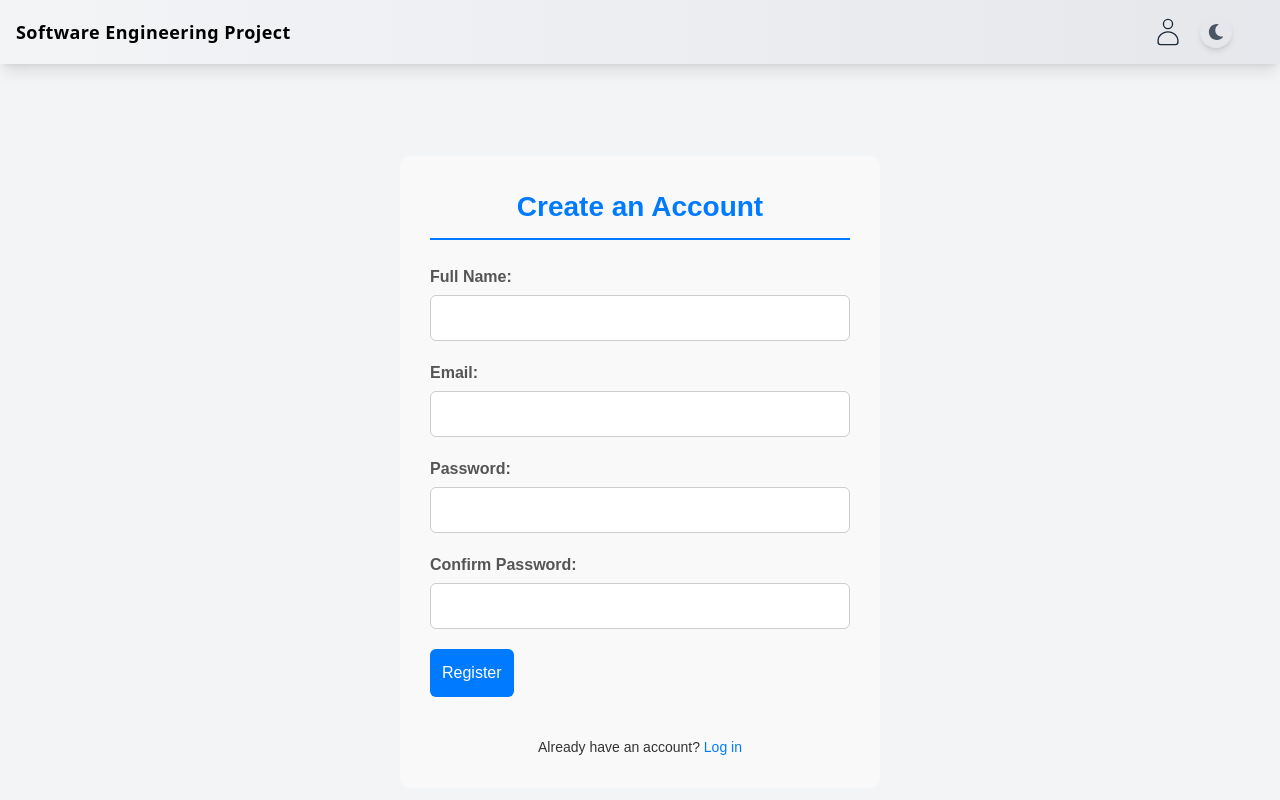
Test: Authentication Flow › User Registration › should show validation errors when passwords do not match
In the field with test id "name-input": (640, 318) [430,295,850,341], type "Test User"
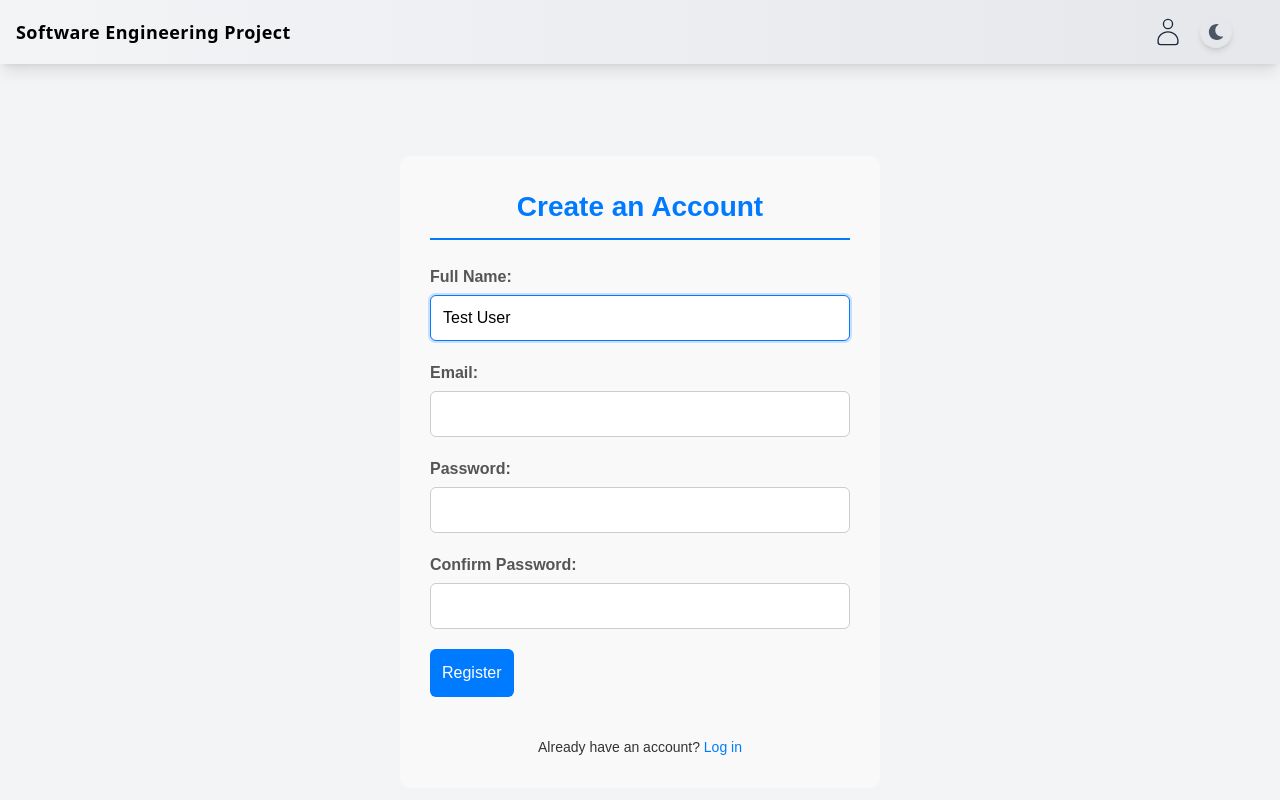
In the field with test id "email-input": (640, 414) [430,391,850,437], type "test@example.com"
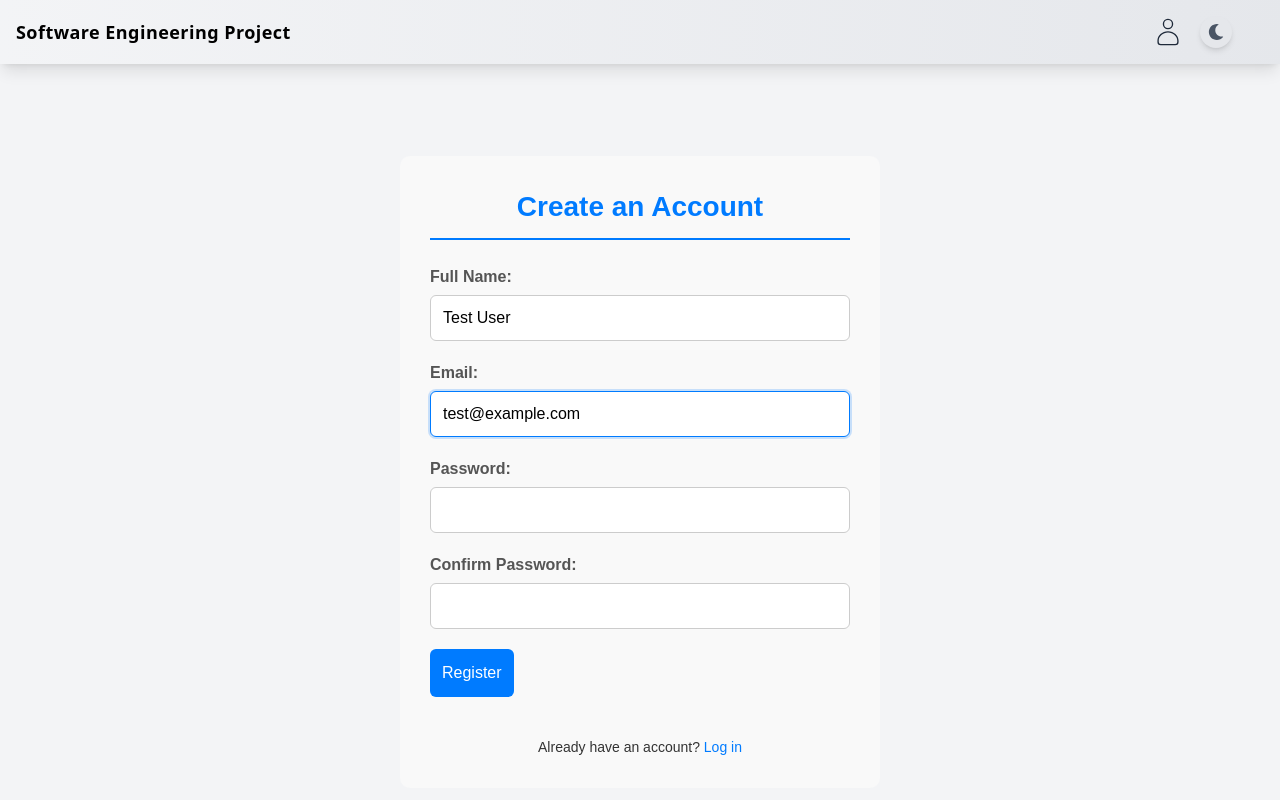
In the password field with test id "password-input": (640, 510) [430,487,850,533], type "Password123!"
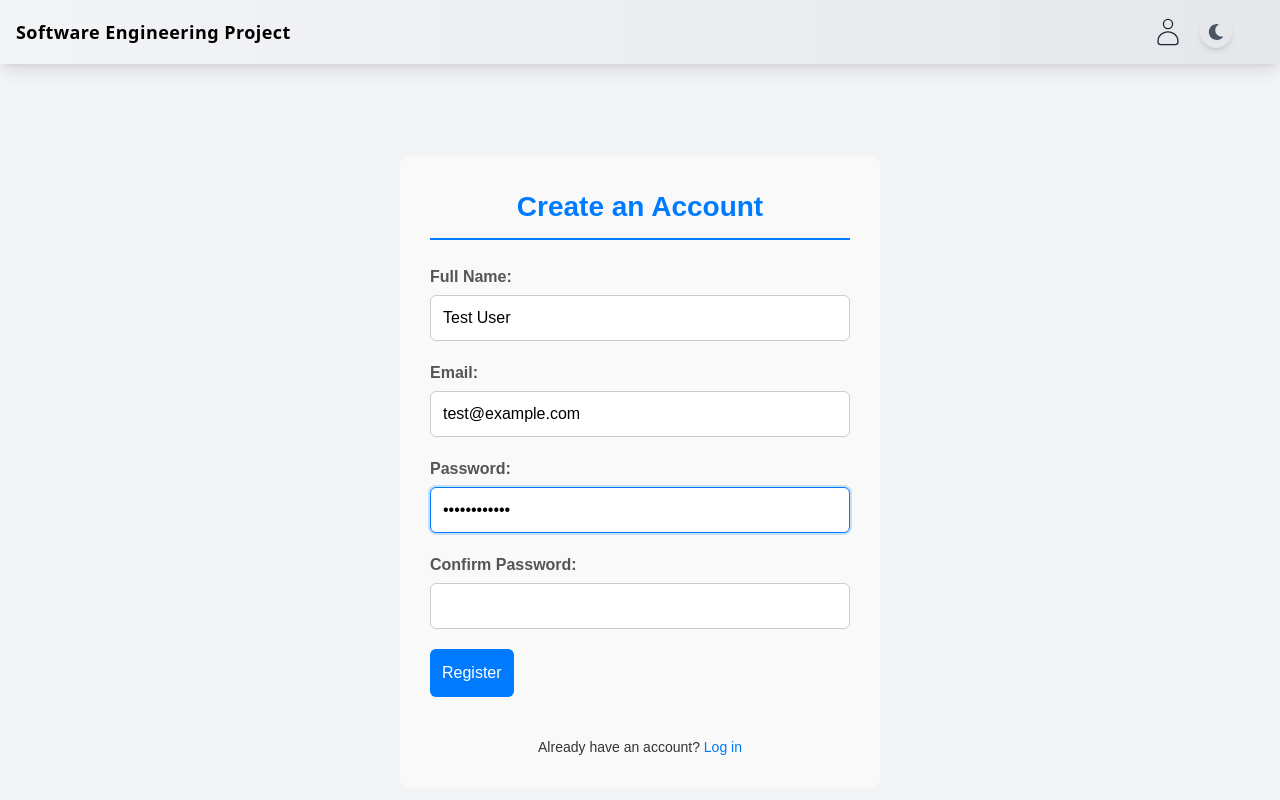
In the password field with test id "confirm-password-input": (640, 606) [430,583,850,629], type "DifferentPassword123!"
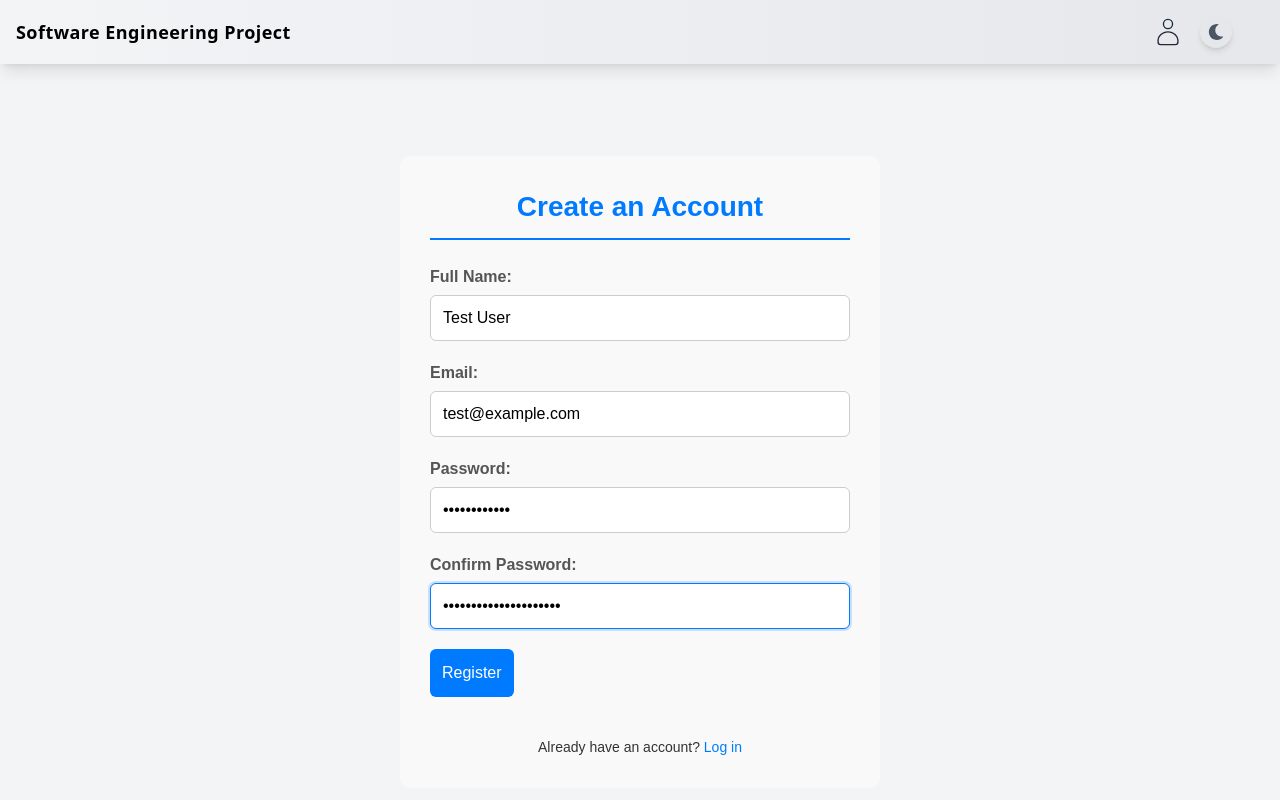
Click the button with test id "register-button": (472, 673) [430,649,514,697]
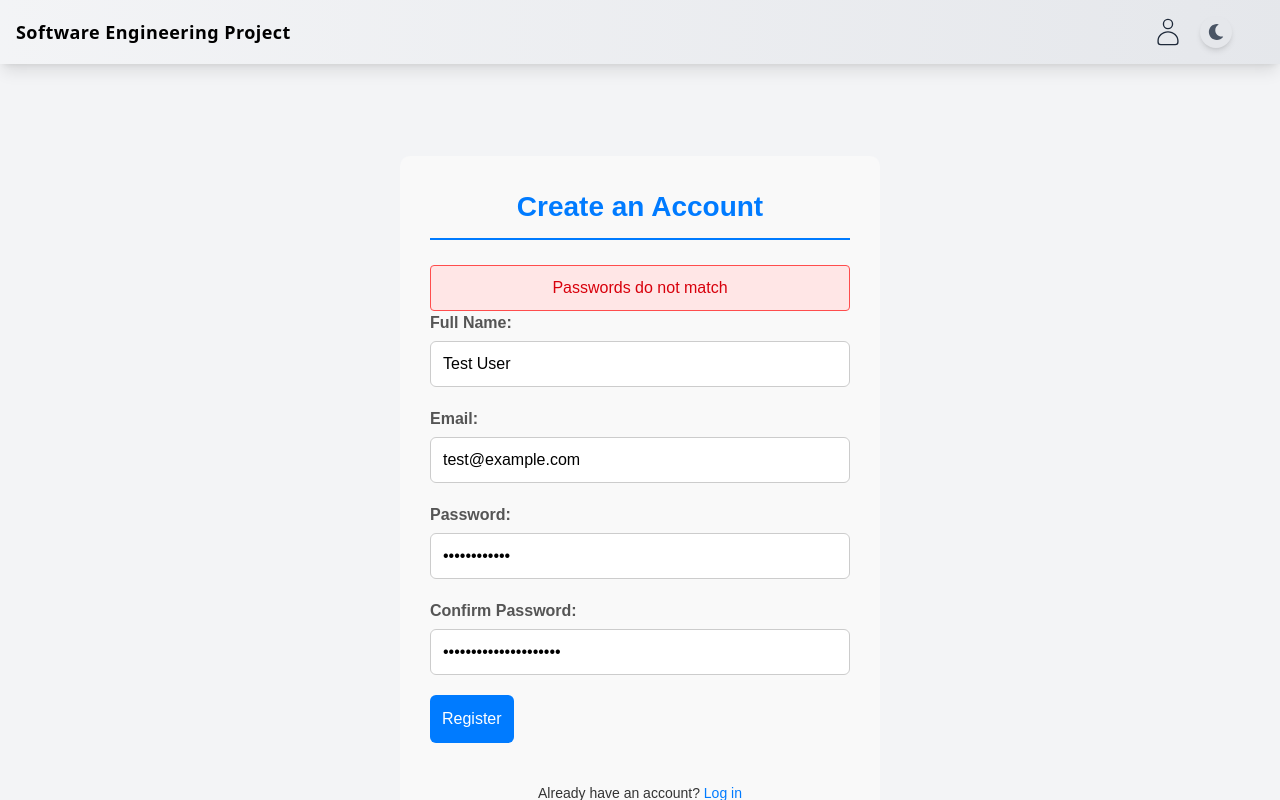
expect the text "Passwords do not match" is shown: met, box [430,265,850,311]
